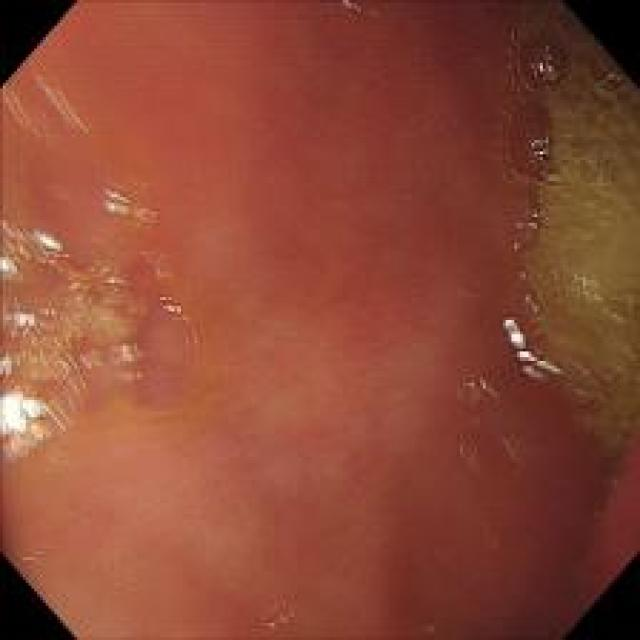blur: (11, 41, 348, 534)
bubbles: (510, 8, 634, 464), (6, 174, 192, 459)
color misalignment: (2, 296, 108, 388), (4, 219, 75, 292), (4, 390, 75, 456), (99, 178, 161, 232), (36, 72, 84, 126), (2, 84, 48, 139), (155, 286, 190, 326), (464, 372, 500, 404), (99, 266, 134, 295), (522, 360, 564, 384), (109, 339, 146, 365), (340, 1, 384, 21), (262, 609, 298, 629), (541, 49, 561, 84), (120, 368, 144, 389)
specularity: (501, 309, 568, 388), (104, 185, 158, 226), (1, 395, 40, 436), (9, 305, 55, 335), (1, 252, 28, 285), (35, 230, 64, 260), (536, 56, 545, 74), (531, 149, 541, 161), (530, 219, 538, 229)
